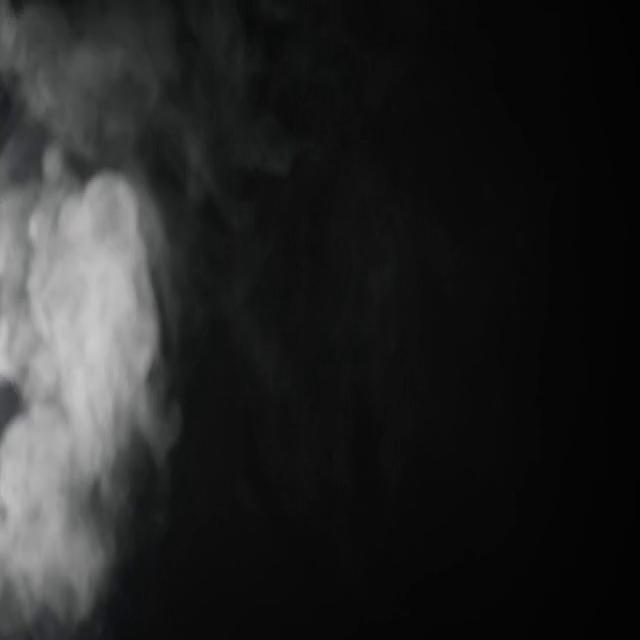smoke: (3, 136, 170, 408), (3, 410, 125, 638), (0, 0, 164, 163), (170, 7, 276, 200), (118, 374, 180, 476)
